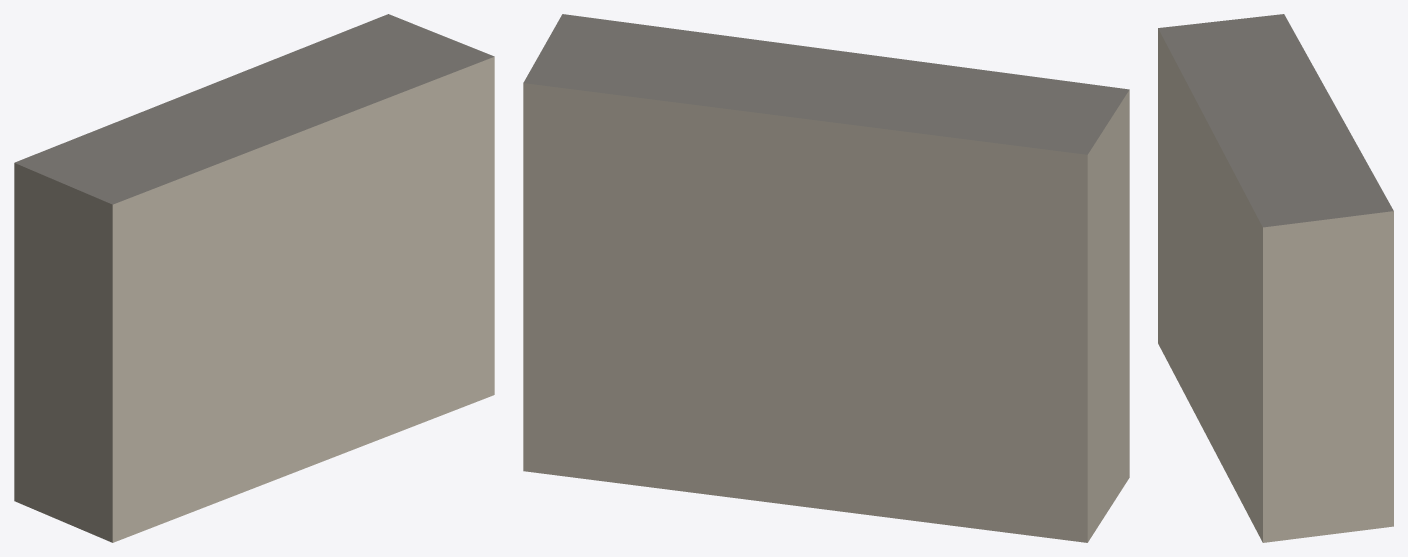
3 renders of one model, left to right at view 1: azimuth 30°, elevation 25°; view 2: azimuth 150°, elevation 25°; view 3: azimuth 270°, elevation 25°, orthographic. The views are drawn at different scales.
Visible parts, largest first — view 1: HP-w702173479; view 2: HP-w702173479; view 3: HP-w702173479.
Boxes of the visible parts, <box> form: HP-w702173479: <box>14,14,494,542</box>; HP-w702173479: <box>523,14,1129,542</box>; HP-w702173479: <box>1158,14,1393,542</box>.
Size of the model in its own units: 26.13 by 18 by 12.2.
